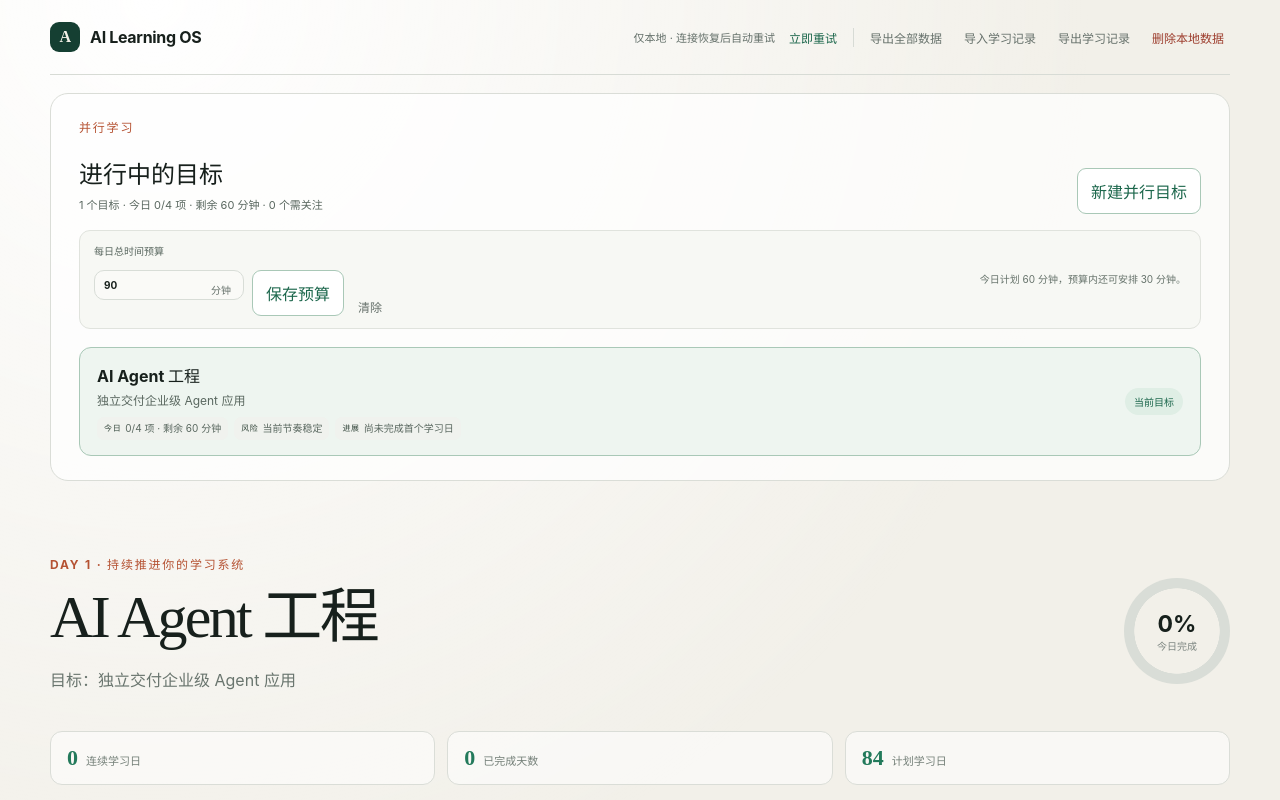
it: learning data controls › keeps data on cancellation and removes every local version after confirmation
The image size is (1280, 800).
Click the button "删除本地数据" at (1188, 37), box [1146, 28, 1230, 46]
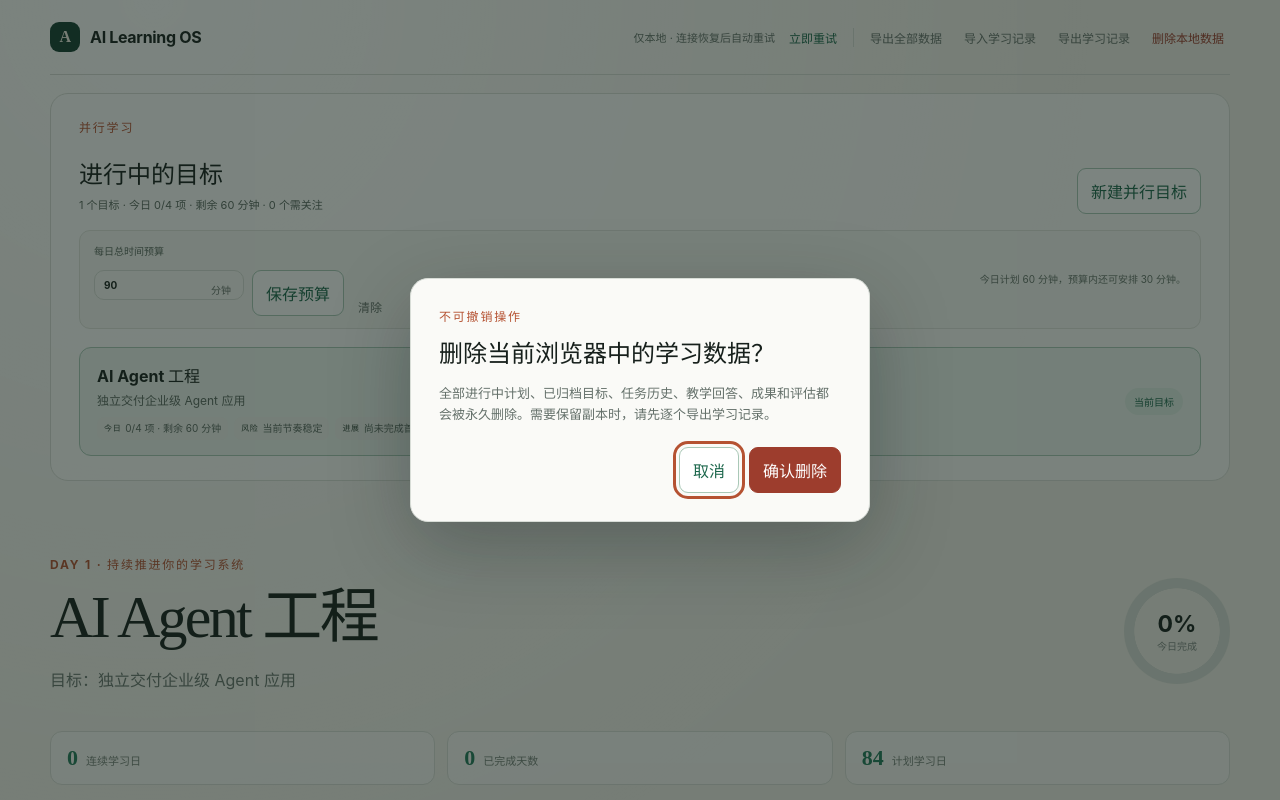
Expected: the dialog "删除当前浏览器中的学习数据？" is shown, [410, 278, 870, 522]
Click the button "取消" at (709, 470), box [679, 447, 739, 493]
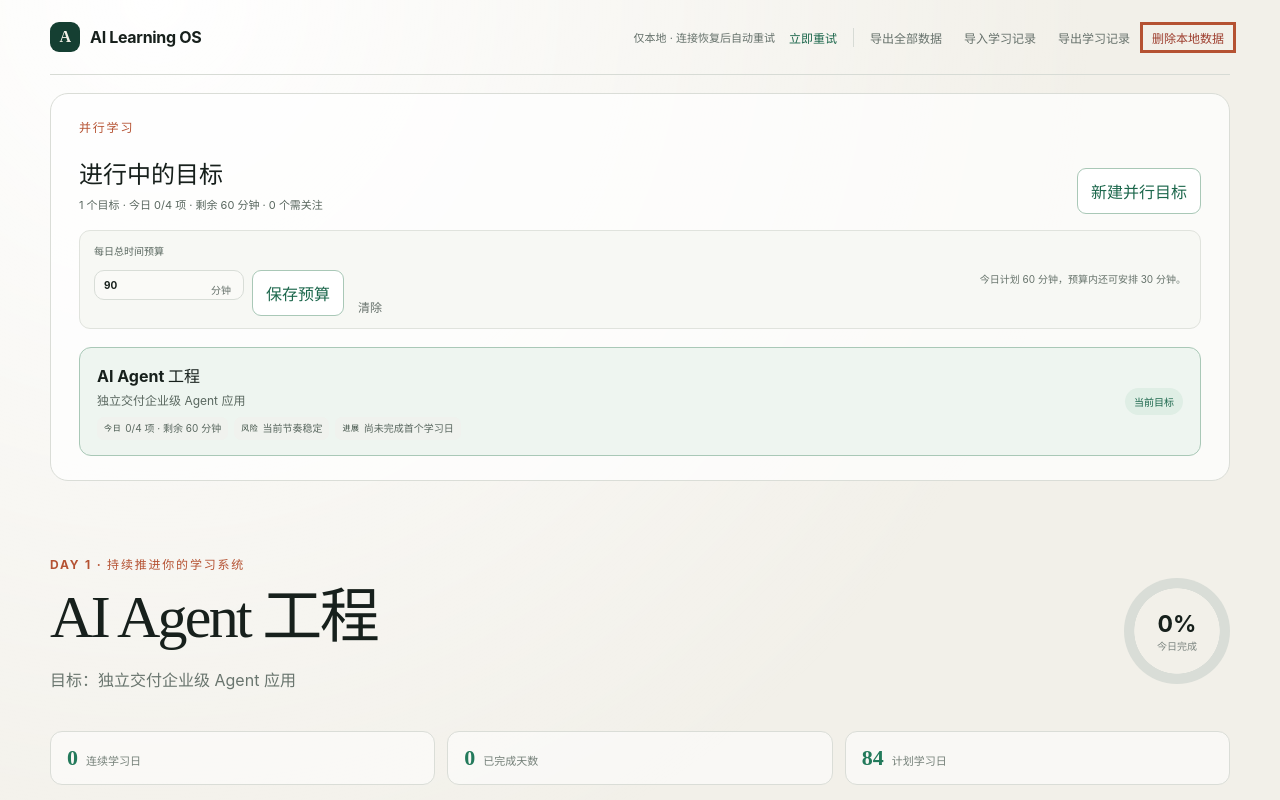
Expected: the dialog is gone
Click the button "删除本地数据" at (1188, 37), box [1146, 28, 1230, 46]
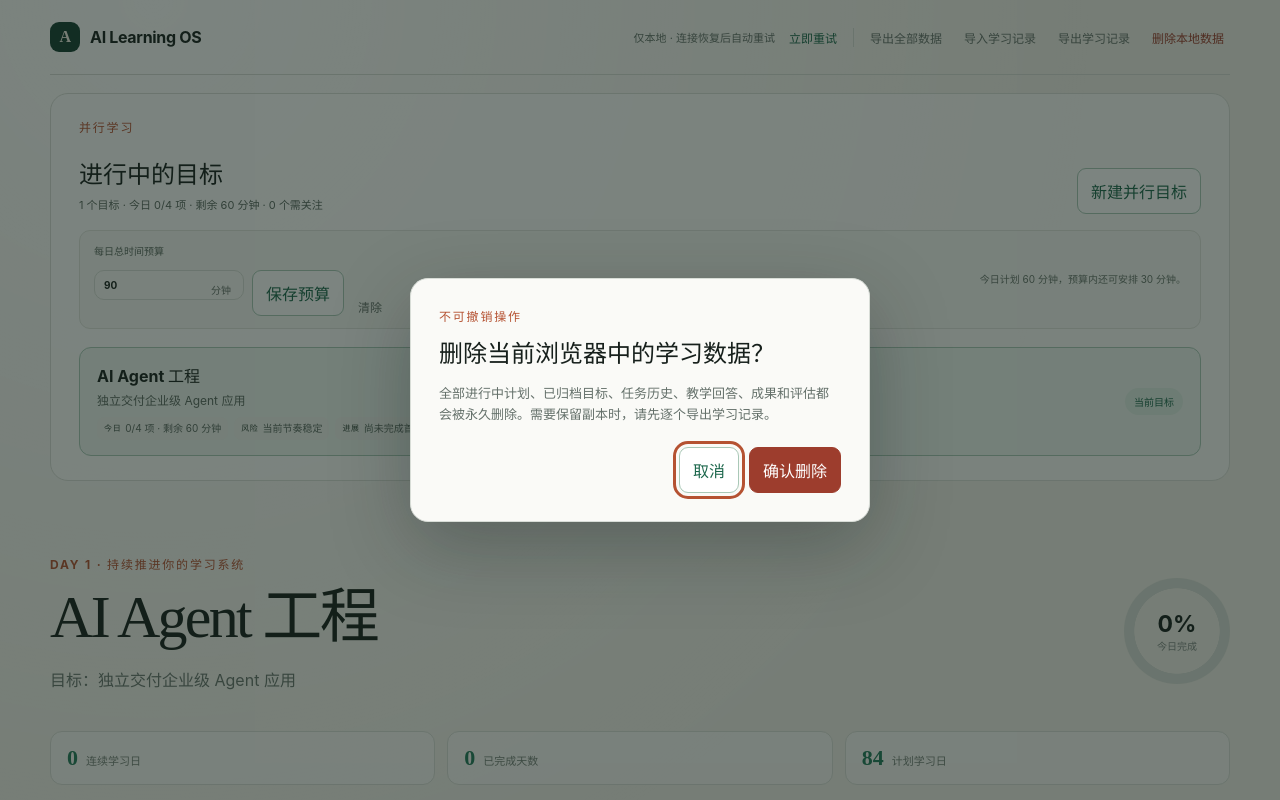
Click the button "确认删除" at (795, 470), box [749, 447, 841, 493]
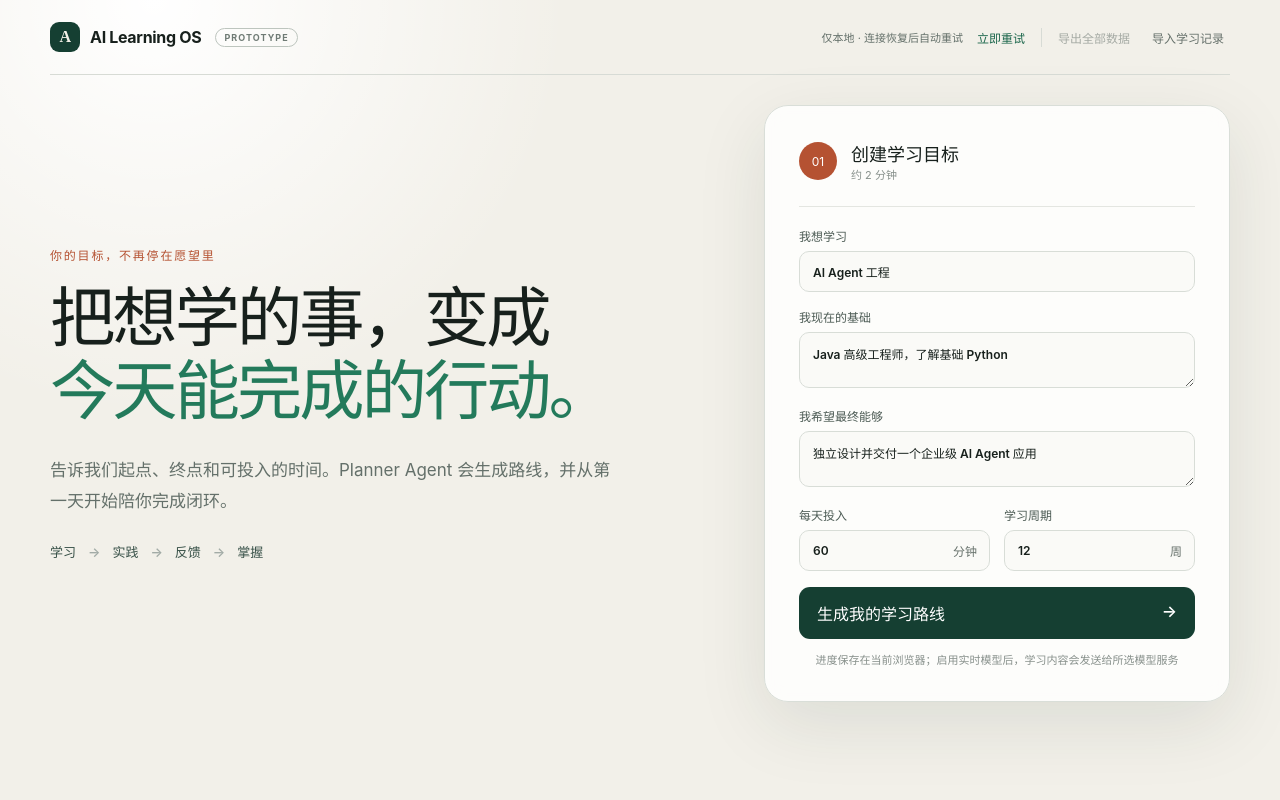
Expected: the heading "把想学的事，变成今天能完成的行动。" is shown, [50, 283, 662, 429]
